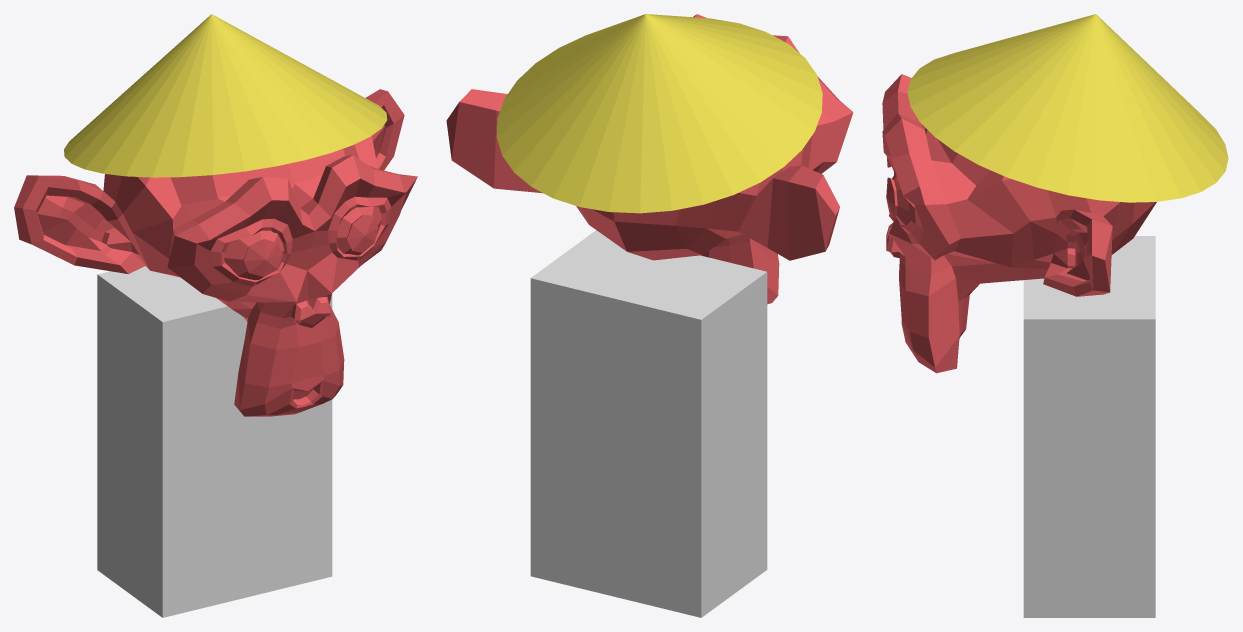
File: experimental_ApplyTransformation.fbx
3 renders of one model, left to right at view 1: azimuth 30°, elevation 25°; view 2: azimuth 150°, elevation 25°; view 3: azimuth 270°, elevation 25°, orthographic.
Visible parts, largest first — view 1: Cube, Suzanne, Cone; view 2: Cube, Cone, Suzanne; view 3: Cube, Cone, Suzanne.
Part boxes in pixels (x1,y1,x2,y2): Cube: (97, 266, 332, 617); Suzanne: (14, 89, 417, 416); Cone: (64, 14, 387, 177); Cube: (530, 230, 767, 617); Cone: (496, 14, 822, 213); Suzanne: (446, 14, 853, 304); Cube: (1023, 236, 1155, 617); Cone: (907, 14, 1228, 202); Suzanne: (882, 74, 1156, 373).
Bounding box in the file's own units: 273 × 377 × 210.
